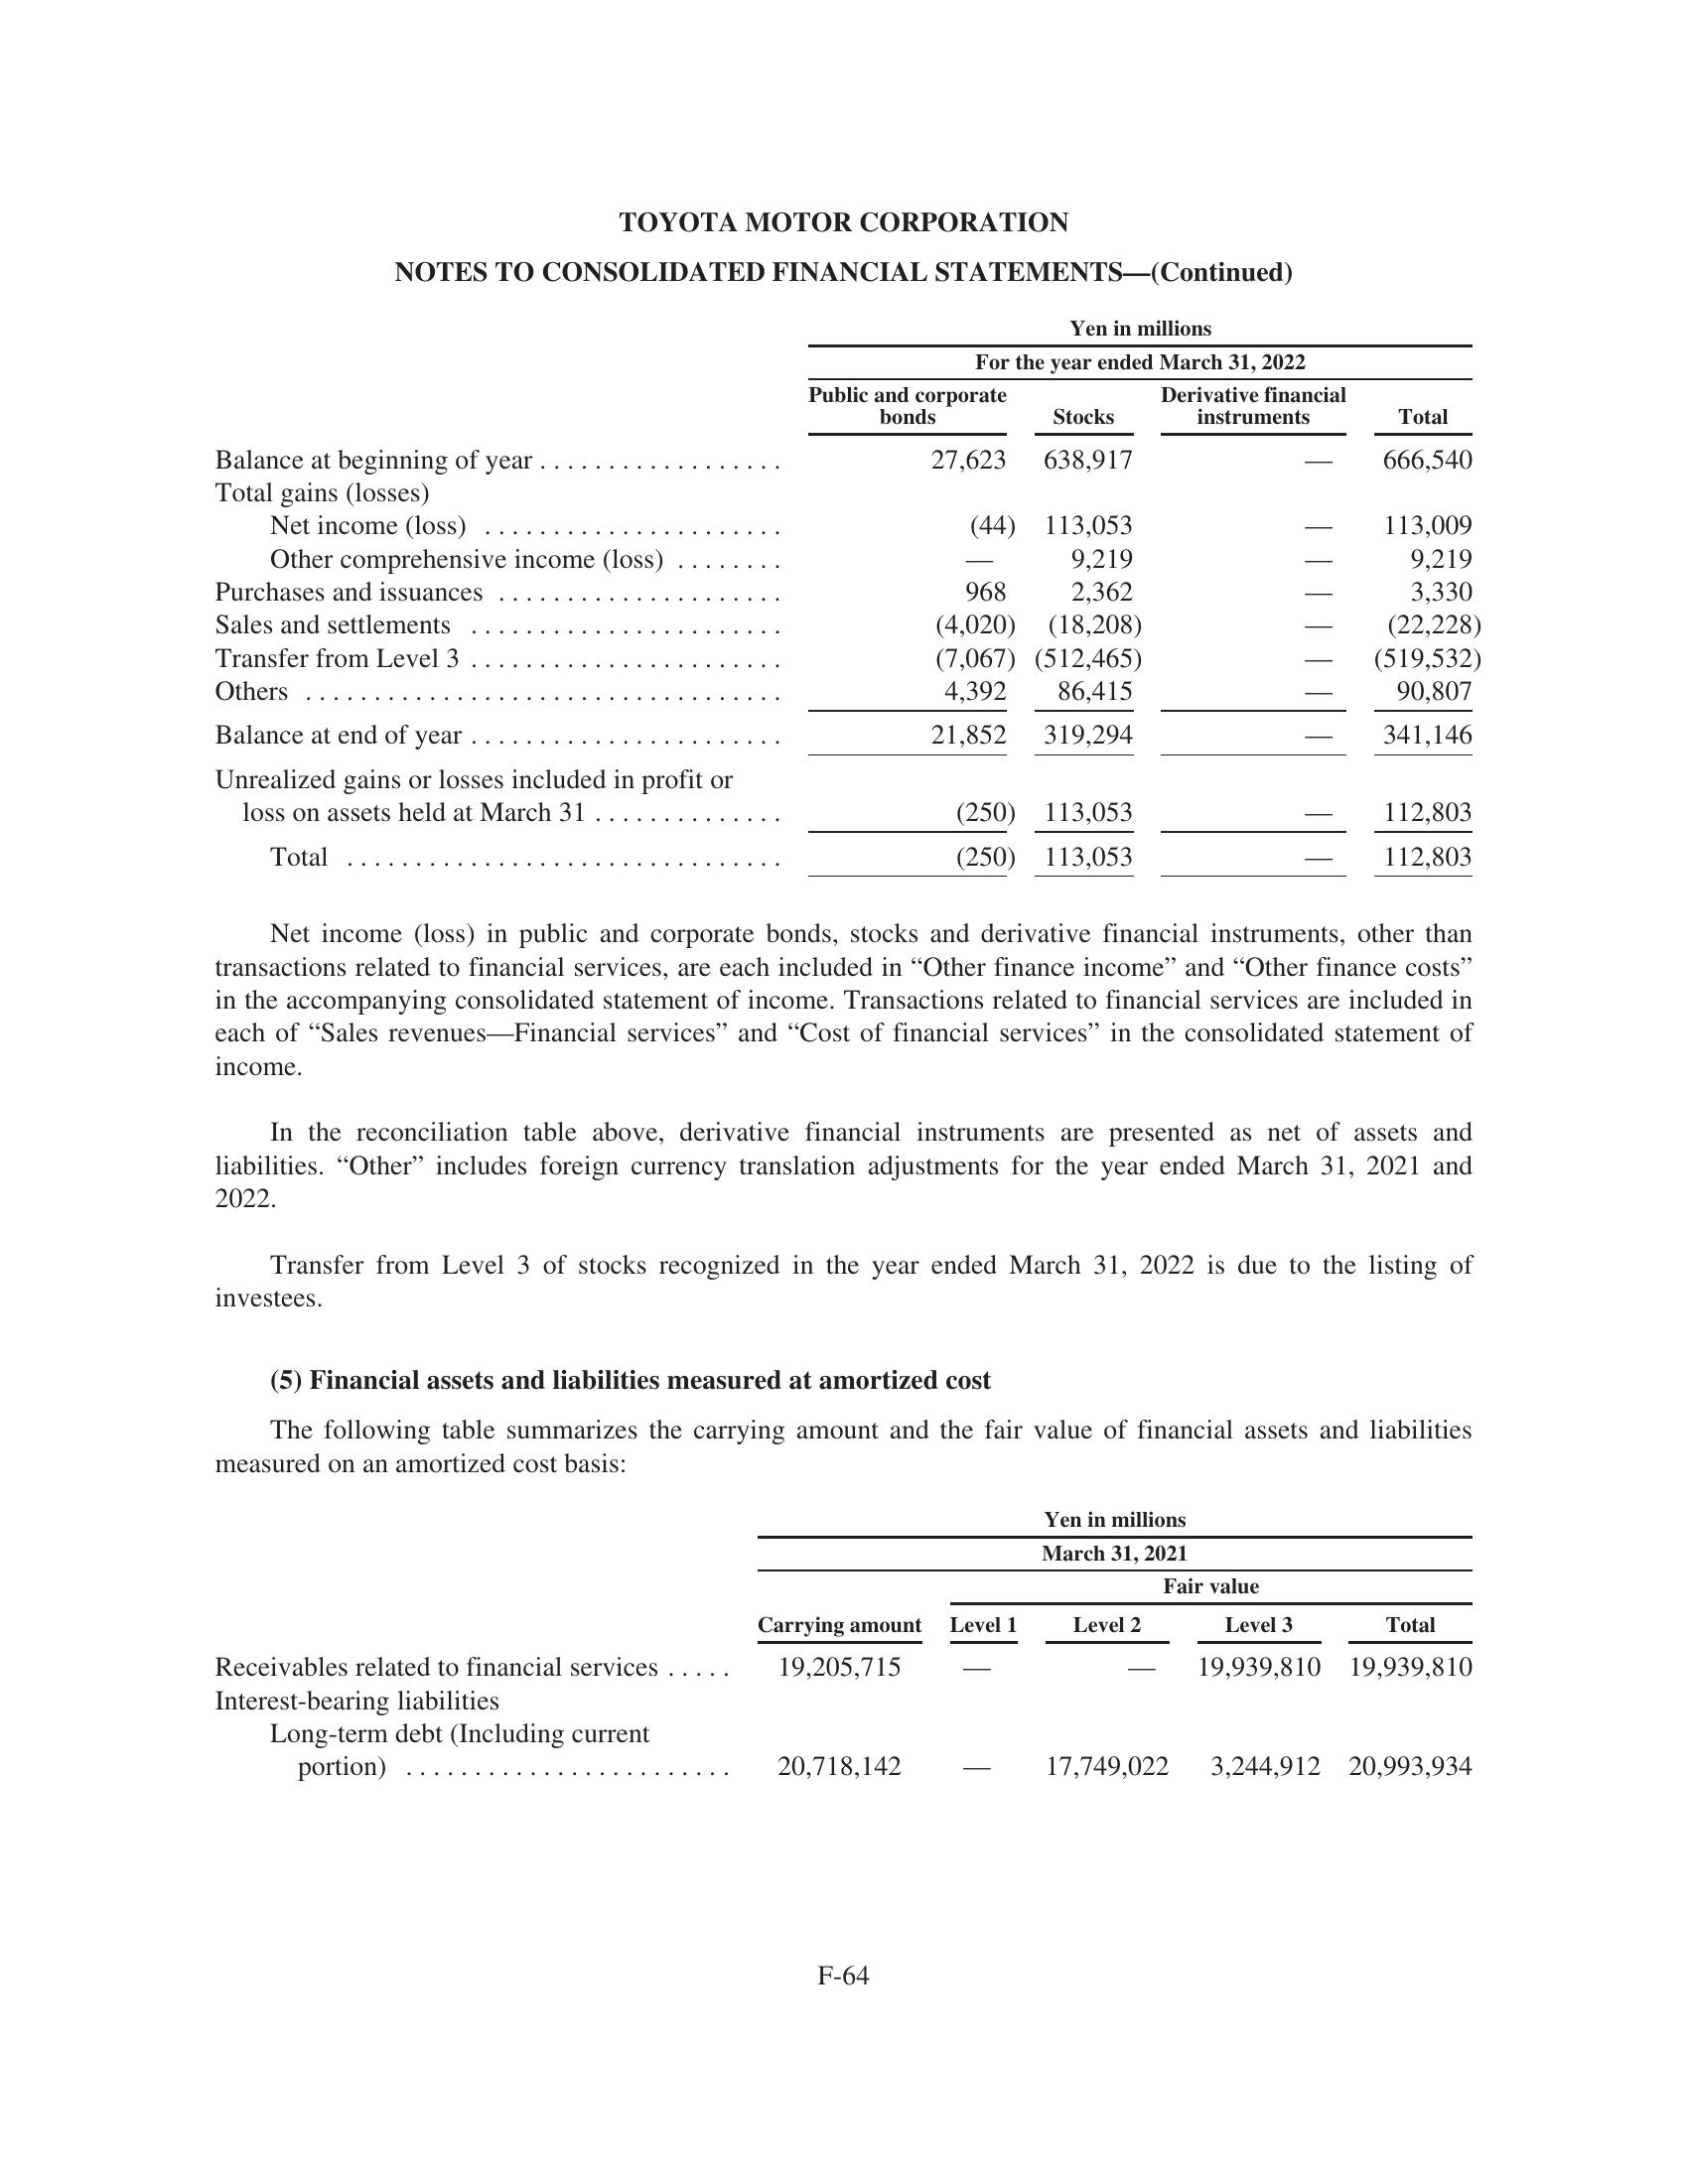Footer: (0, 1954, 1688, 2184)
Header: (0, 0, 1688, 191)
Table: (154, 298, 1500, 881), (163, 1482, 1491, 1798)
